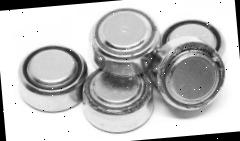electronic: (8, 36, 96, 116)
